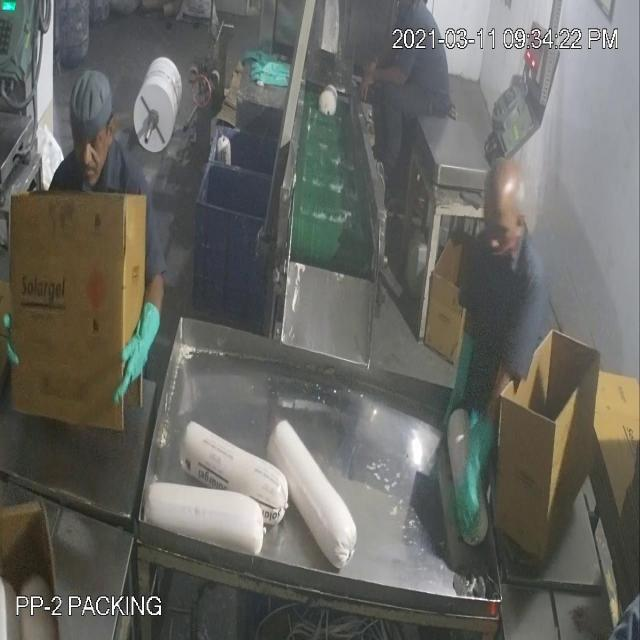Gloves: (52, 42, 478, 474)
